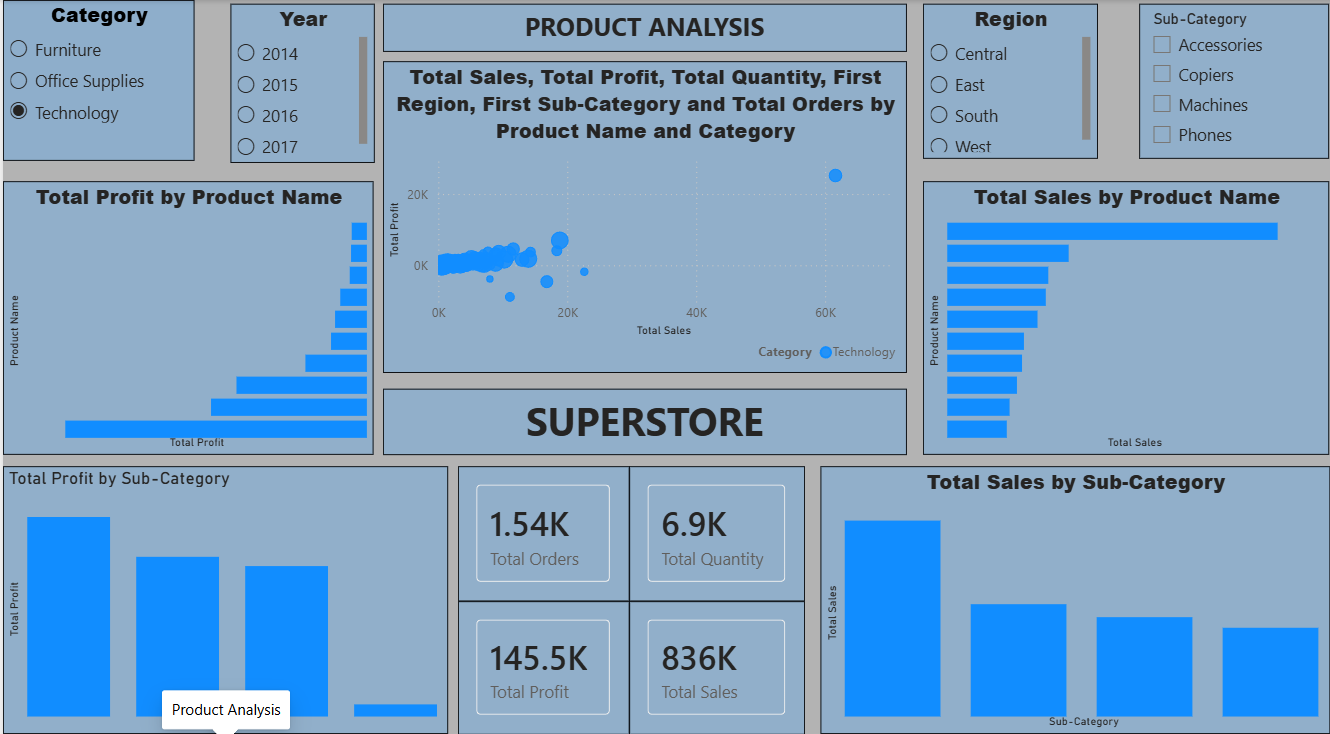

What the dashboard file says about the page in this screenshot:
{"tool":"powerbi","page":{"name":"Product Analysis","canvas":[1280,720],"ordinal":1},"visuals":[{"type":"textbox","box":[367.1,4.1,505.3,46.1],"z":0},{"type":"clusteredBarChart","fields":{"Category":["Superstore.Product Name"],"Y":["Superstore.Total Sales"]},"box":[888.1,175.2,392.2,264.1],"z":1000},{"type":"clusteredBarChart","fields":{"Y":["Superstore.Total Profit"],"Category":["Superstore.Product Name"]},"box":[0,174.8,357.7,264.2],"z":2000},{"type":"clusteredColumnChart","fields":{"Category":["Superstore.Sub-Category"],"Y":["Superstore.Total Sales"]},"box":[788.5,449.8,491.8,258.8],"z":3000},{"type":"clusteredColumnChart","fields":{"Y":["Superstore.Total Profit"],"Category":["Superstore.Sub-Category"]},"box":[0,449.8,429.5,258.8],"z":4000},{"type":"scatterChart","fields":{"Y":["Superstore.Total Profit"],"X":["Superstore.Total Sales"],"Size":["Superstore.Total Quantity"],"Category":["Superstore.Product Name"],"Series":["Superstore.Category"]},"box":[366.6,59.3,505.4,300.5],"z":5000},{"type":"listSlicer","fields":{"Values":["Superstore.Category"]},"box":[0,0,184.6,155],"z":6000},{"type":"listSlicer","fields":{"Values":["Superstore.Year"]},"box":[219.7,4,138.8,153.6],"z":7000},{"type":"slicer","fields":{"Values":["Superstore.Sub-Category"]},"box":[1097,4,183.3,149.6],"z":8000},{"type":"listSlicer","fields":{"Values":["Superstore.Region"]},"box":[888.1,4,168.5,149.6],"z":9000},{"type":"textbox","box":[367.1,375.3,505.3,63.7],"z":10000},{"type":"cardVisual","fields":{"Data":["Superstore.Total Orders"]},"box":[439,449.8,165.3,130.1],"z":11000},{"type":"cardVisual","fields":{"Data":["Superstore.Total Profit"]},"box":[439,579.8,165.3,128.7],"z":12000},{"type":"cardVisual","fields":{"Data":["Superstore.Total Quantity"]},"box":[604.2,449.8,169.3,130.1],"z":13000},{"type":"cardVisual","fields":{"Data":["Superstore.Total Sales"]},"box":[604.2,579.8,169.3,128.7],"z":14000}]}

Visuals, with their boxes in screenshot pixels (x1, y1, x2, y2), scaled from the page's 1280x720 canvas onto the 1330x734 screenshot:
textbox: detection(381, 4, 906, 51)
clusteredBarChart - Superstore.Product Name x Superstore.Total Sales: detection(923, 179, 1329, 448)
clusteredBarChart - Superstore.Total Profit x Superstore.Product Name: detection(0, 178, 372, 448)
clusteredColumnChart - Superstore.Sub-Category x Superstore.Total Sales: detection(819, 459, 1329, 722)
clusteredColumnChart - Superstore.Total Profit x Superstore.Sub-Category: detection(0, 459, 446, 722)
scatterChart - Superstore.Total Profit x Superstore.Total Sales: detection(381, 60, 906, 367)
listSlicer - Superstore.Category: detection(0, 0, 192, 158)
listSlicer - Superstore.Year: detection(228, 4, 373, 161)
slicer - Superstore.Sub-Category: detection(1140, 4, 1329, 157)
listSlicer - Superstore.Region: detection(923, 4, 1098, 157)
textbox: detection(381, 383, 906, 448)
cardVisual - Superstore.Total Orders: detection(456, 459, 628, 591)
cardVisual - Superstore.Total Profit: detection(456, 591, 628, 722)
cardVisual - Superstore.Total Quantity: detection(628, 459, 804, 591)
cardVisual - Superstore.Total Sales: detection(628, 591, 804, 722)
